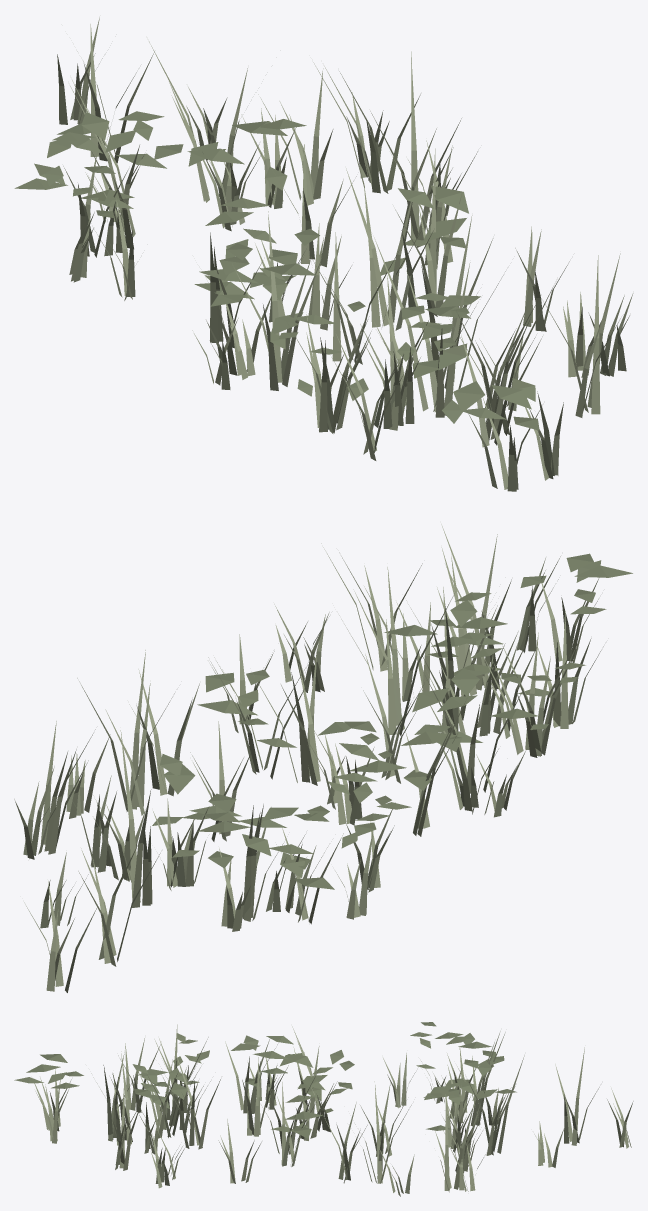
Rendered from AE_Encroachment_06.fbx.
3 renders of one model, top to bottom at view 1: azimuth 30°, elevation 25°; view 2: azimuth 150°, elevation 25°; view 3: azimuth 270°, elevation 25°, orthographic. The views are drawn at different scales.
Visible parts, largest first — view 1: AE_Encroachment_06_LOD0; view 2: AE_Encroachment_06_LOD0; view 3: AE_Encroachment_06_LOD0.
Part boxes in pixels (x1,y1,x2,y2): AE_Encroachment_06_LOD0: [14, 17, 633, 491]; AE_Encroachment_06_LOD0: [14, 524, 632, 992]; AE_Encroachment_06_LOD0: [14, 1022, 633, 1196].
Size of what is drawn, in the model's own units: 249 by 101 by 587.
